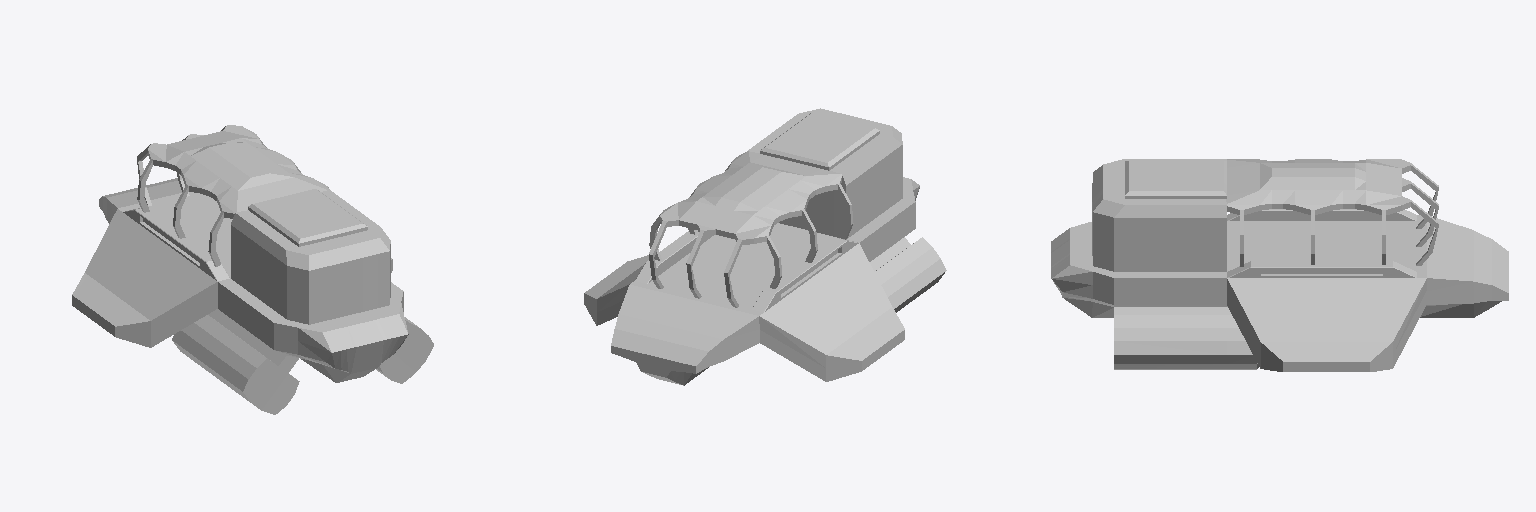
Rendered from ship combined.obj.
3 renders of one model, left to right at view 1: azimuth 30°, elevation 25°; view 2: azimuth 150°, elevation 25°; view 3: azimuth 270°, elevation 25°, orthographic.
Visible parts, largest first — view 1: ship2; view 2: ship2; view 3: ship2.
Boxes of the visible parts, x1=… form: ship2: x1=72, y1=125, x2=433, y2=414; ship2: x1=584, y1=108, x2=946, y2=385; ship2: x1=1051, y1=159, x2=1508, y2=371.
Bounding box in the file's own units: 10.71 × 6.15 × 15.28.